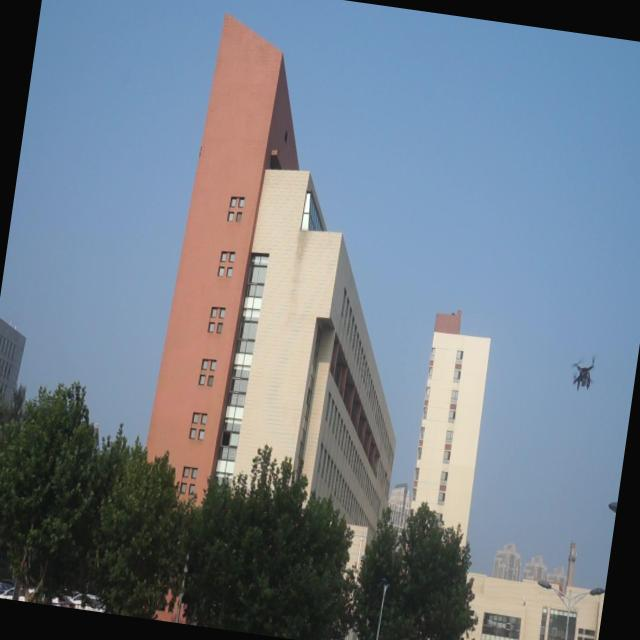drone: (566, 351, 600, 398)
